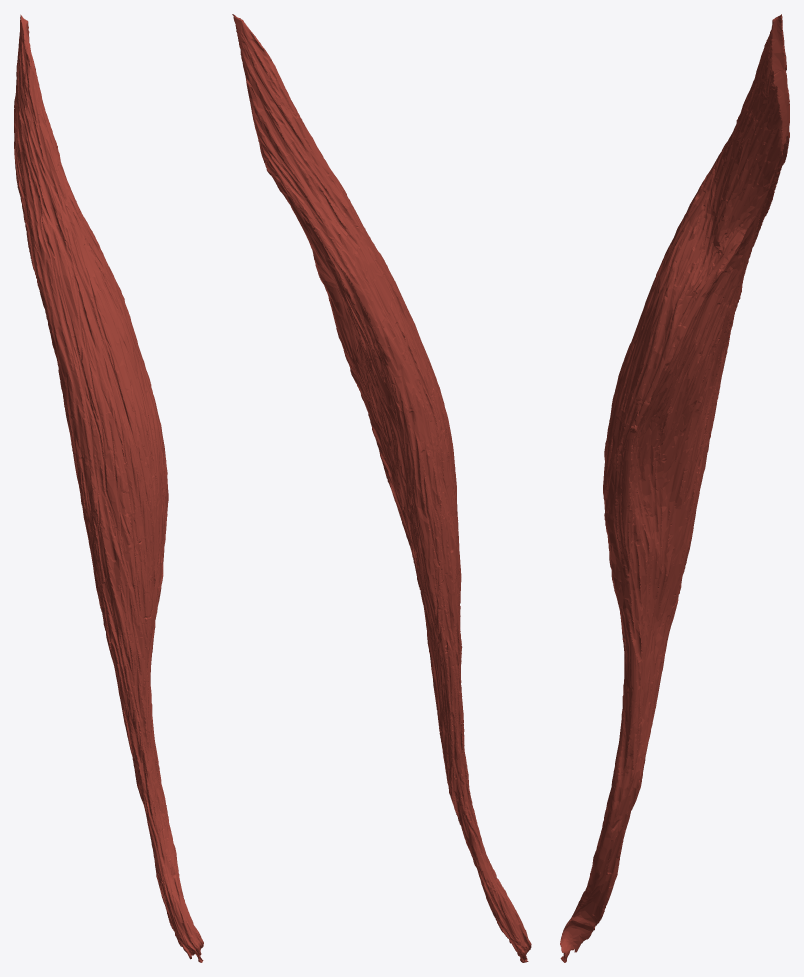
Rendered from brachioradialis_right.glb.
3 views of the same model, side by side, from view 1: azimuth 90°, elevation 25°; view 2: azimuth 150°, elevation 25°; view 3: azimuth 270°, elevation 25° (orthographic). The views are drawn at different scales.
Bounding box in the file's own units: 0.0725 × 0.3379 × 0.0672.
